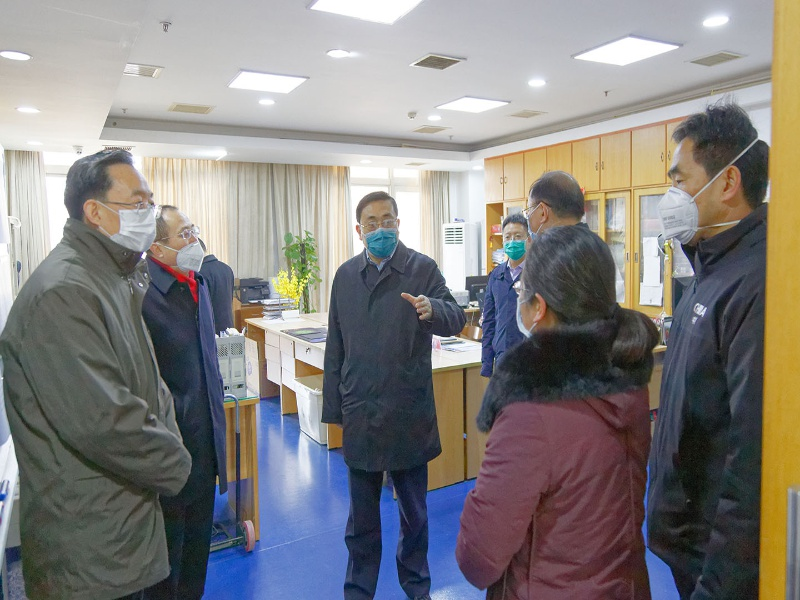ManaoArotava: (643, 111, 739, 256), (73, 146, 172, 258), (152, 190, 211, 285), (346, 190, 410, 272), (494, 213, 544, 276)
